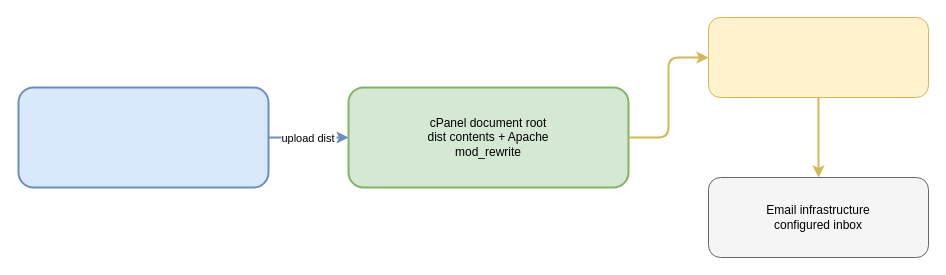
Some shapes in this 946 by 275 pixel diagram are drawn without their labels. Here are the shapes that lost their labels. From the top down, the centre of each, then its label:
At point 818,57: "PHP 8.1+ api/submit.php".
At point 143,137: "Developer machine Node.js 20+ / npm 10+ npm run build".
